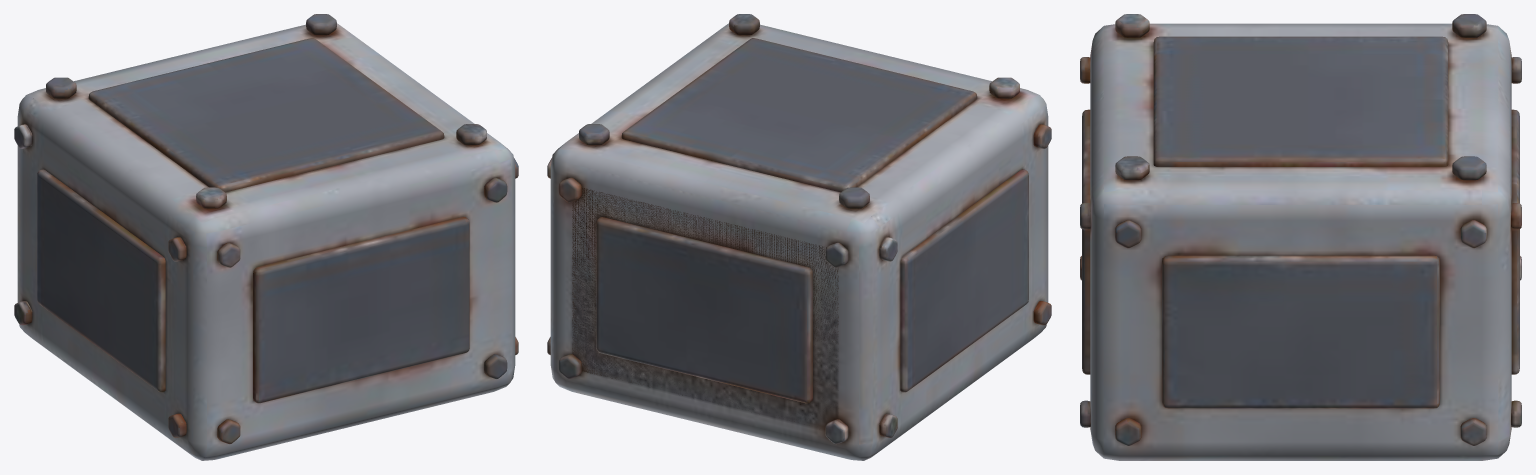
Rendered from block.glb.
The picture shows the model from 3 angles, left to right: view 1: azimuth 30°, elevation 25°; view 2: azimuth 150°, elevation 25°; view 3: azimuth 270°, elevation 25°; orthographic projection. The views are drawn at different scales.
Visible parts, largest first — view 1: body; view 2: body; view 3: body.
Part boxes in pixels (x1,y1,x2,y2): body: (14, 14, 518, 460); body: (547, 14, 1051, 460); body: (1080, 14, 1521, 460).
Bounding box in the file's own units: 0.5244 × 0.3788 × 0.5244.
1 material, 1 textured.
